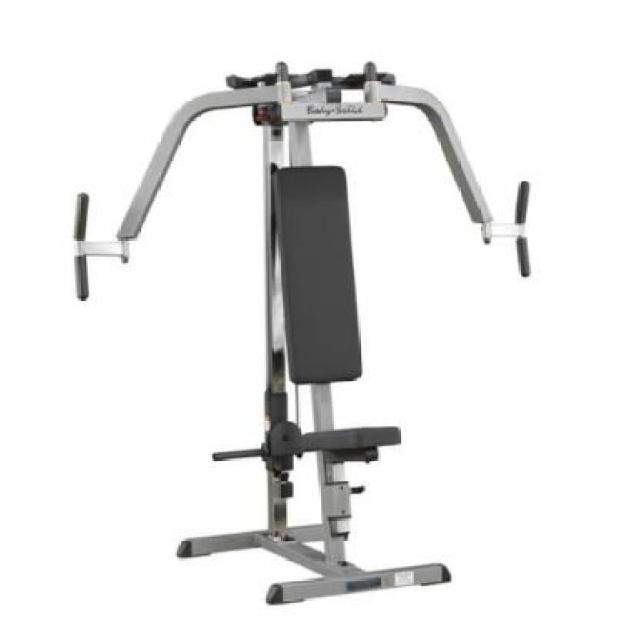chest fly machine: (62, 40, 546, 640)
